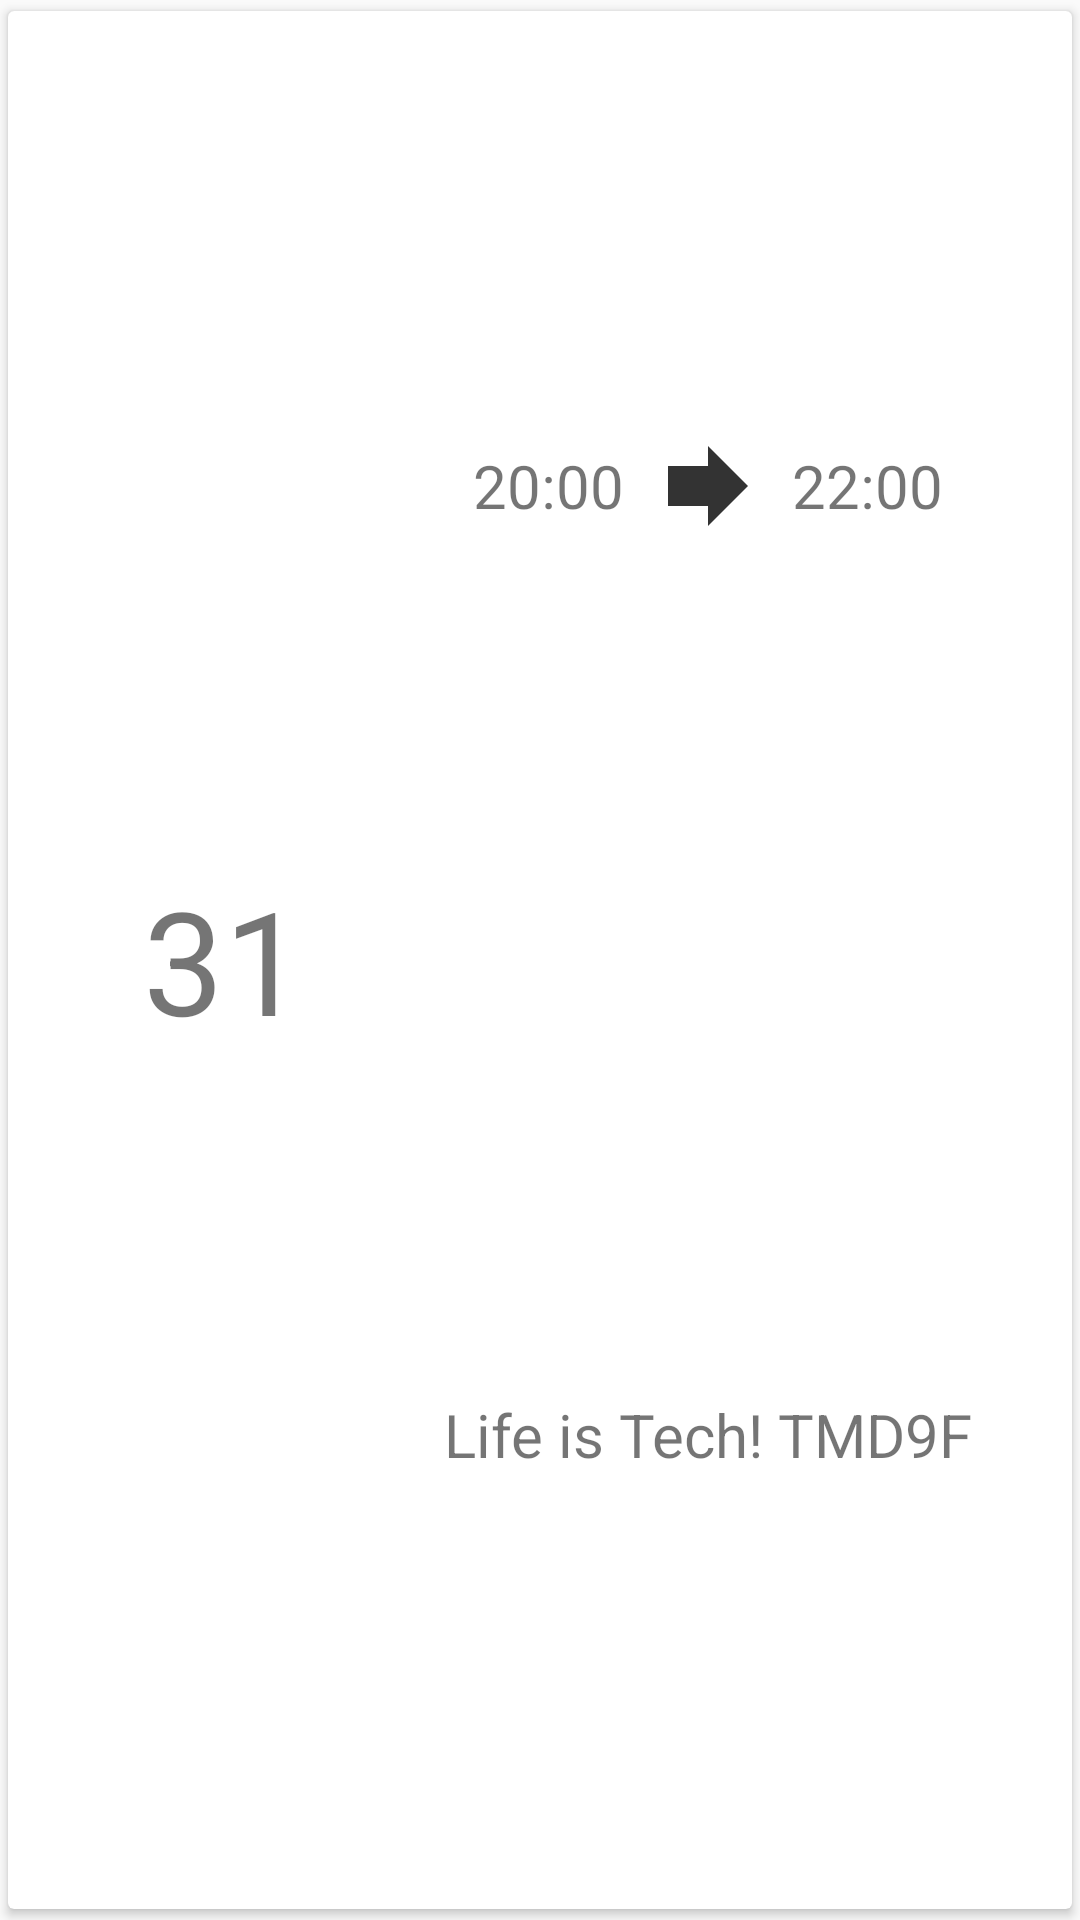

Named icons in this screenshot (1080w x 1920h) and their centers, [x,y]:
forward: [708,486]
